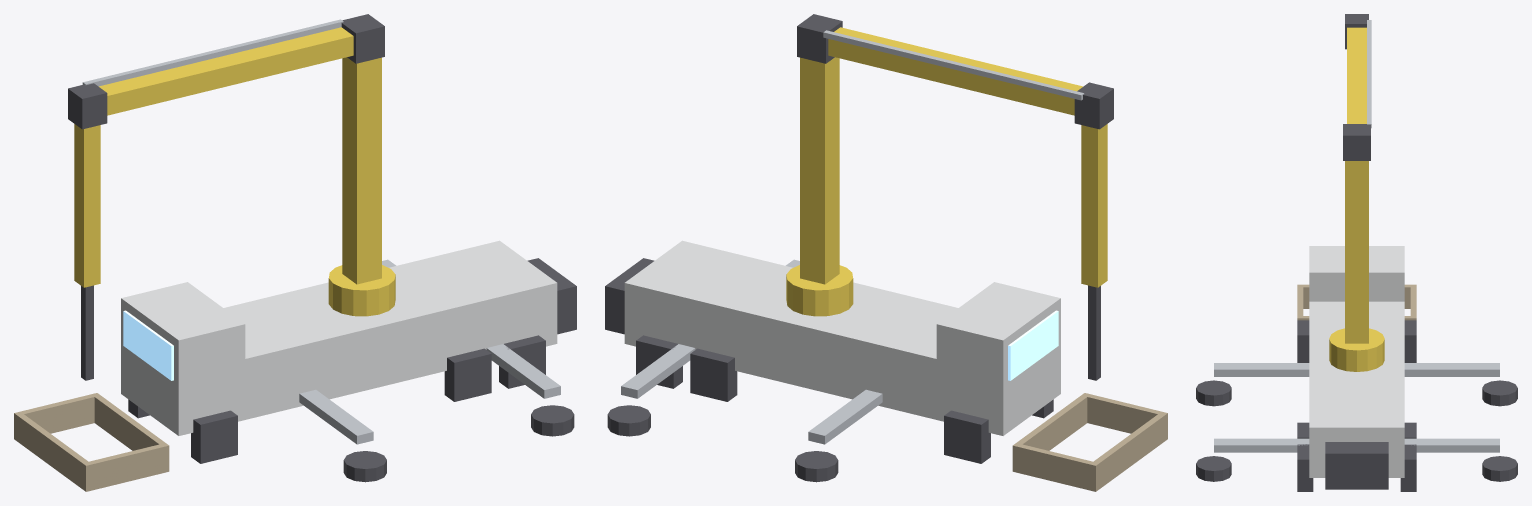
File: wing-robot-hall-concrete-pump.glb
The picture shows the model from 3 angles, left to right: view 1: azimuth 30°, elevation 25°; view 2: azimuth 150°, elevation 25°; view 3: azimuth 270°, elevation 25°; orthographic projection. The views are drawn at different scales.
Parts seen in each view (by area): view 1: Robot · concrete placing boom; view 2: Robot · concrete placing boom; view 3: Robot · concrete placing boom.
Boxes of the visible parts, <box> form: Robot · concrete placing boom: <box>14,14,576,491</box>; Robot · concrete placing boom: <box>605,14,1167,491</box>; Robot · concrete placing boom: <box>1196,14,1517,491</box>.
Size of the model in its own units: 12.2 by 8.42 by 8.1.
